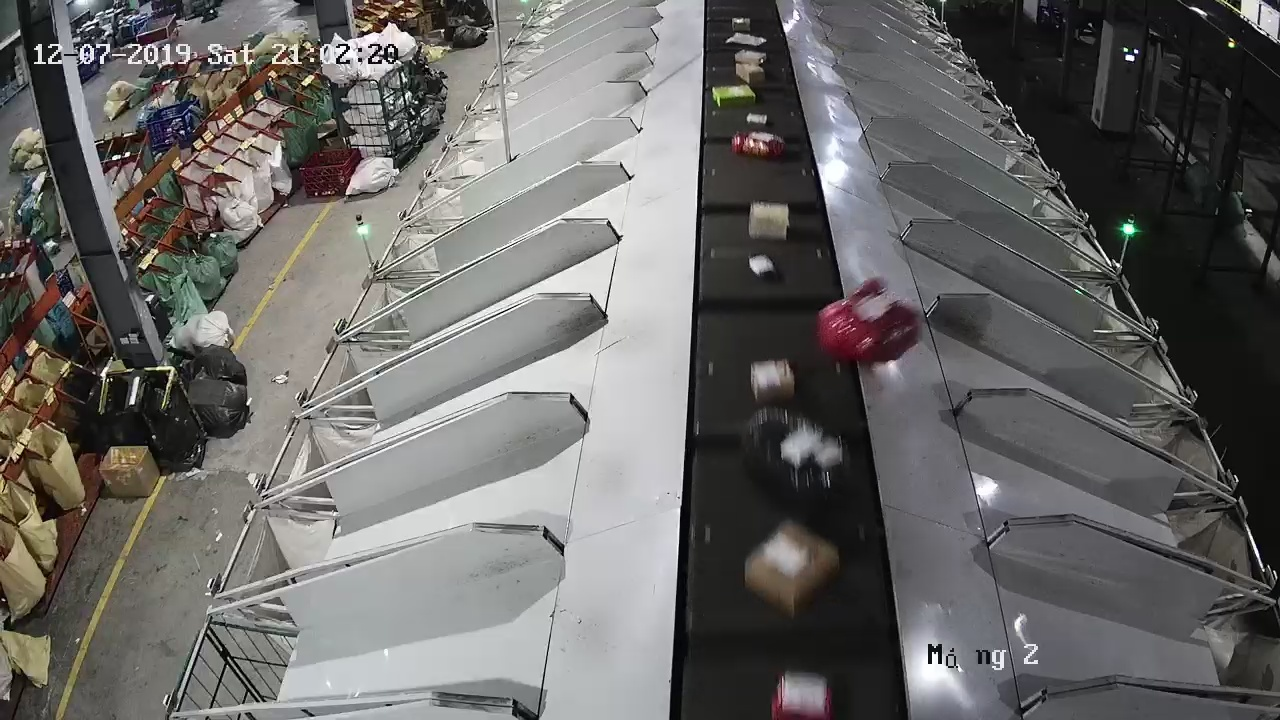parcel: (815, 277, 921, 365)
